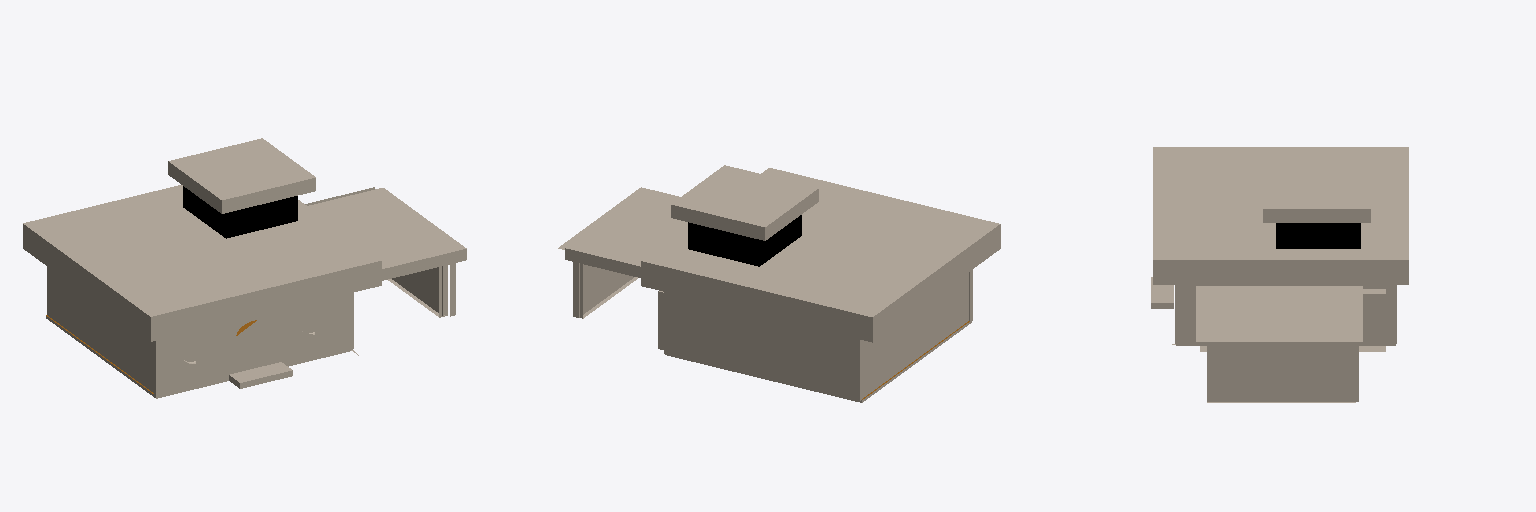
3 views of the same model, side by side, from view 1: azimuth 30°, elevation 25°; view 2: azimuth 150°, elevation 25°; view 3: azimuth 270°, elevation 25° (orthographic).
Parts seen in each view (by area): view 1: polySurface36; view 2: polySurface36; view 3: polySurface36.
Part boxes in pixels (left/top/right/bottom): polySurface36: left=23, top=138, right=466, bottom=398; polySurface36: left=558, top=165, right=1000, bottom=402; polySurface36: left=1151, top=147, right=1408, bottom=402.
Size of the model in its own units: 56.92 by 23.19 by 37.52.
Materials: 15 (5 with a texture image).